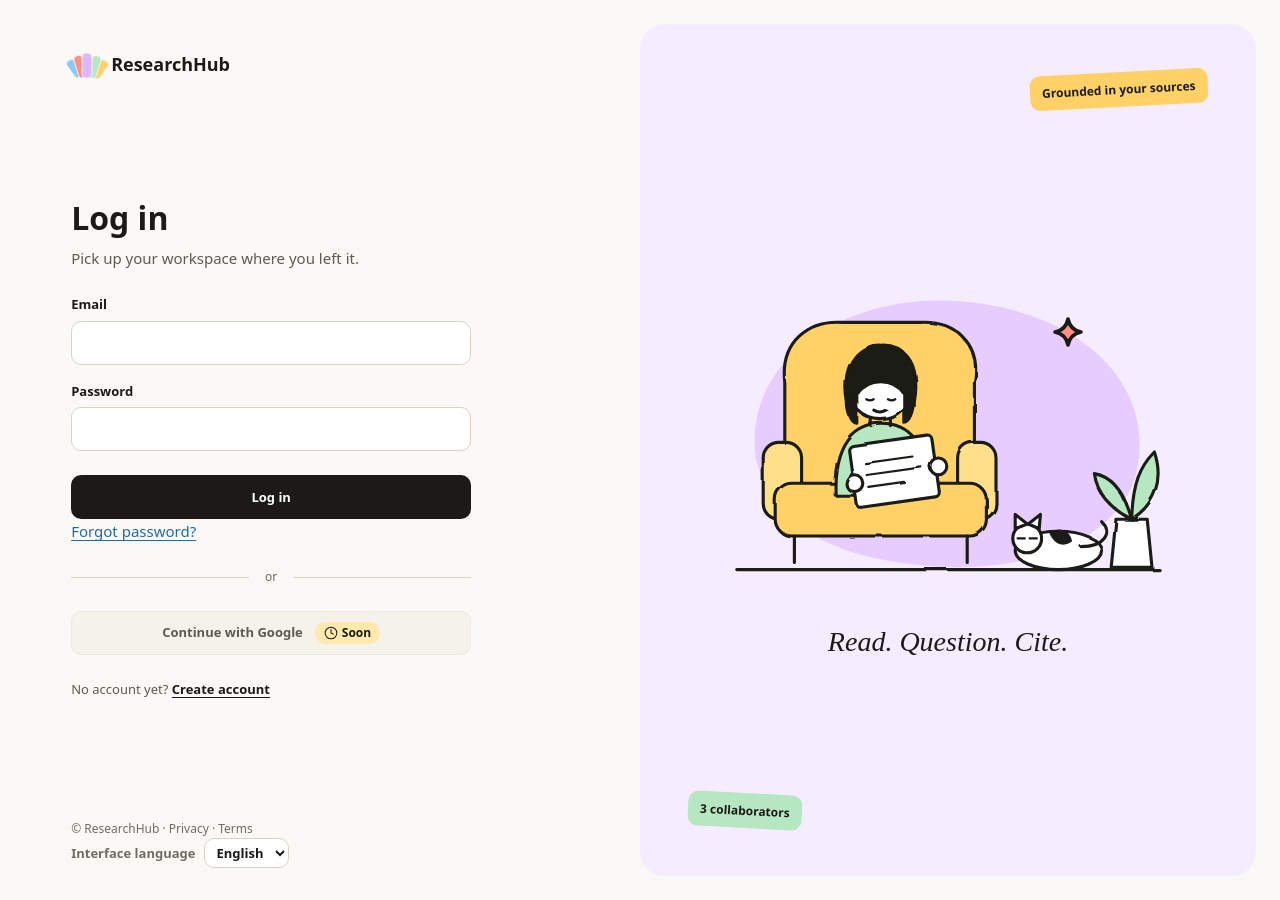
Test case: LoginPage › shows one generic message when the credentials are rejected
In the field labelled "Email": (271, 343) 71,321 -> 471,365, type "ada@example.com"
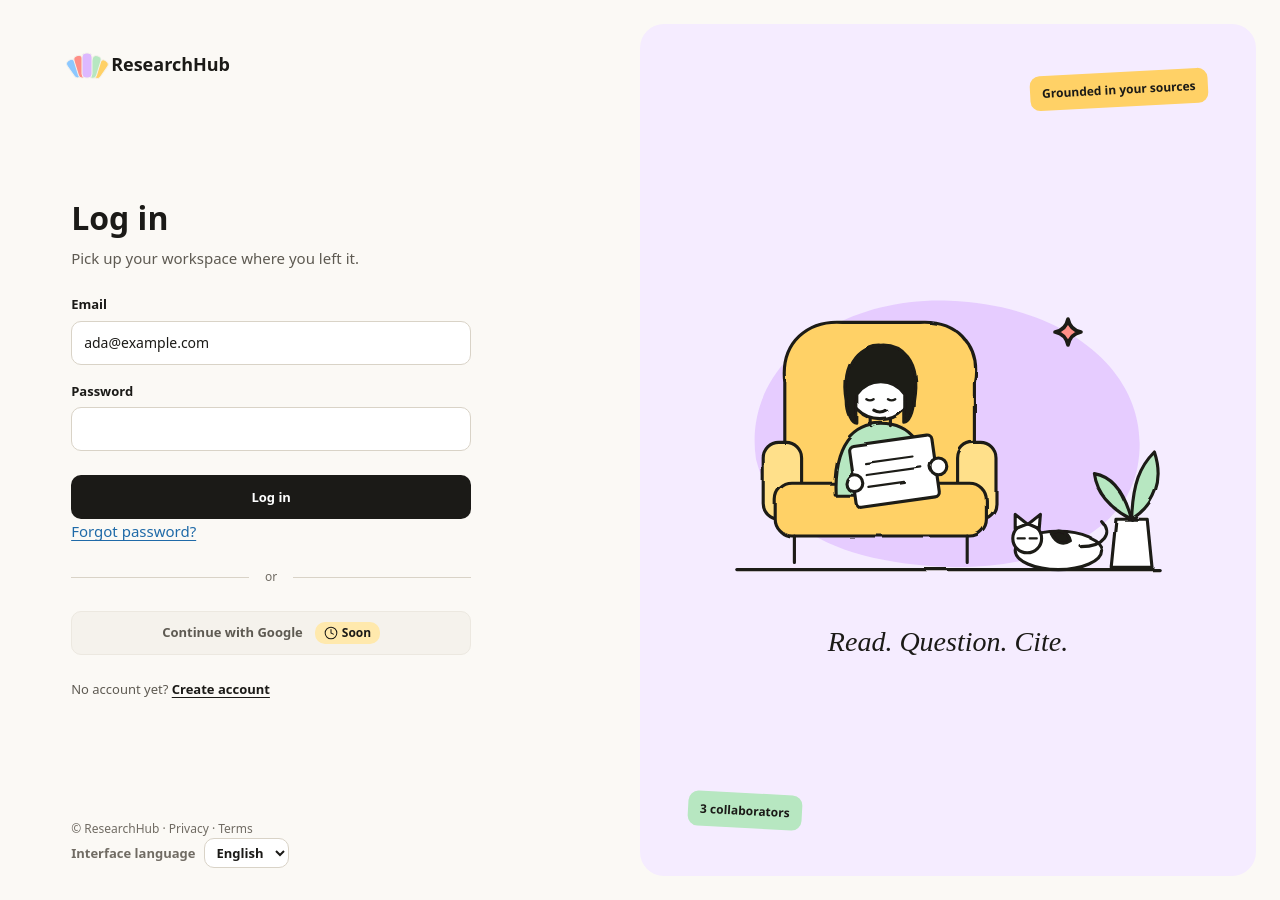
In the password field labelled "Password": (271, 429) 71,407 -> 471,451, type "a-long-enough-password"
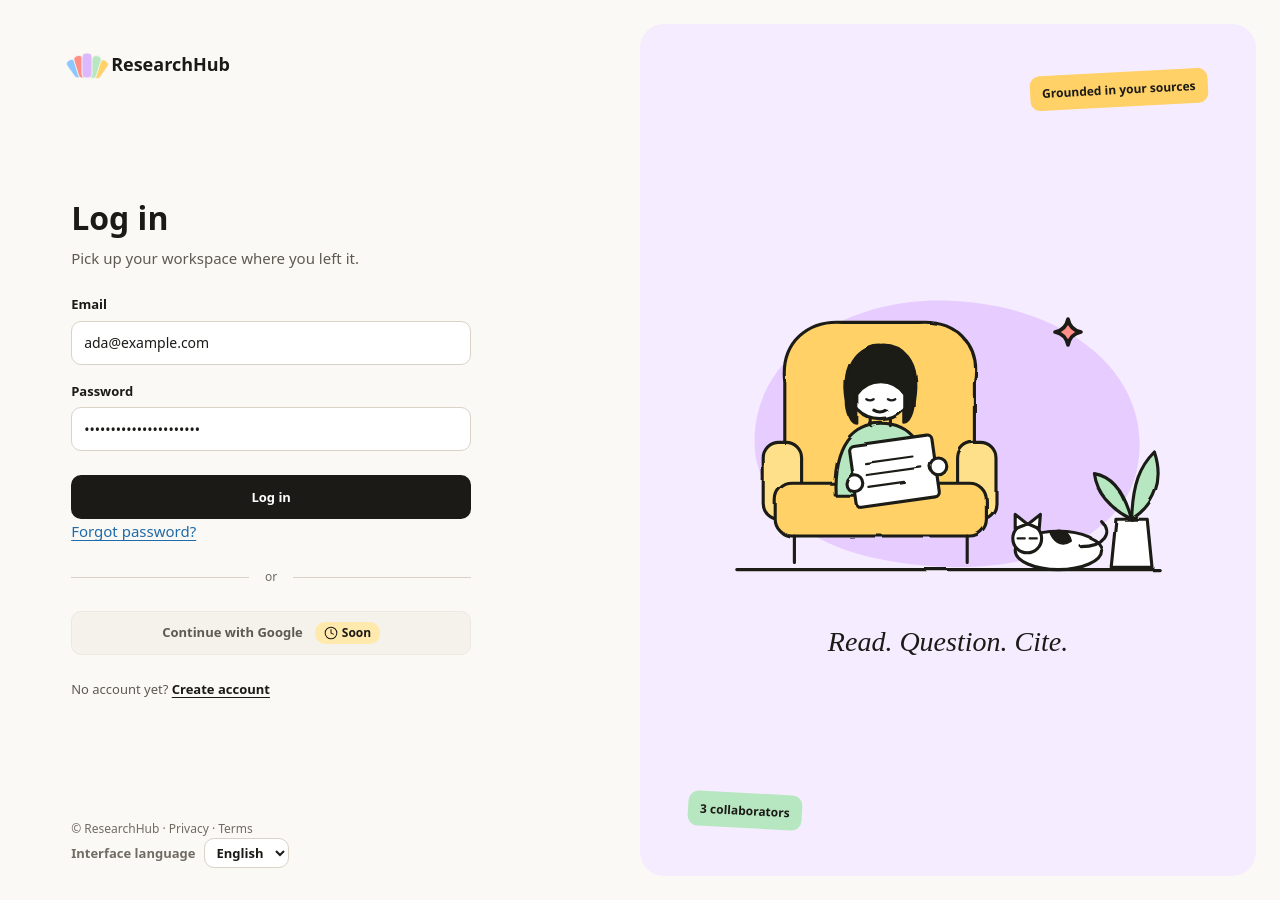
Click the button "Log in": (271, 497) 71,475 -> 471,519
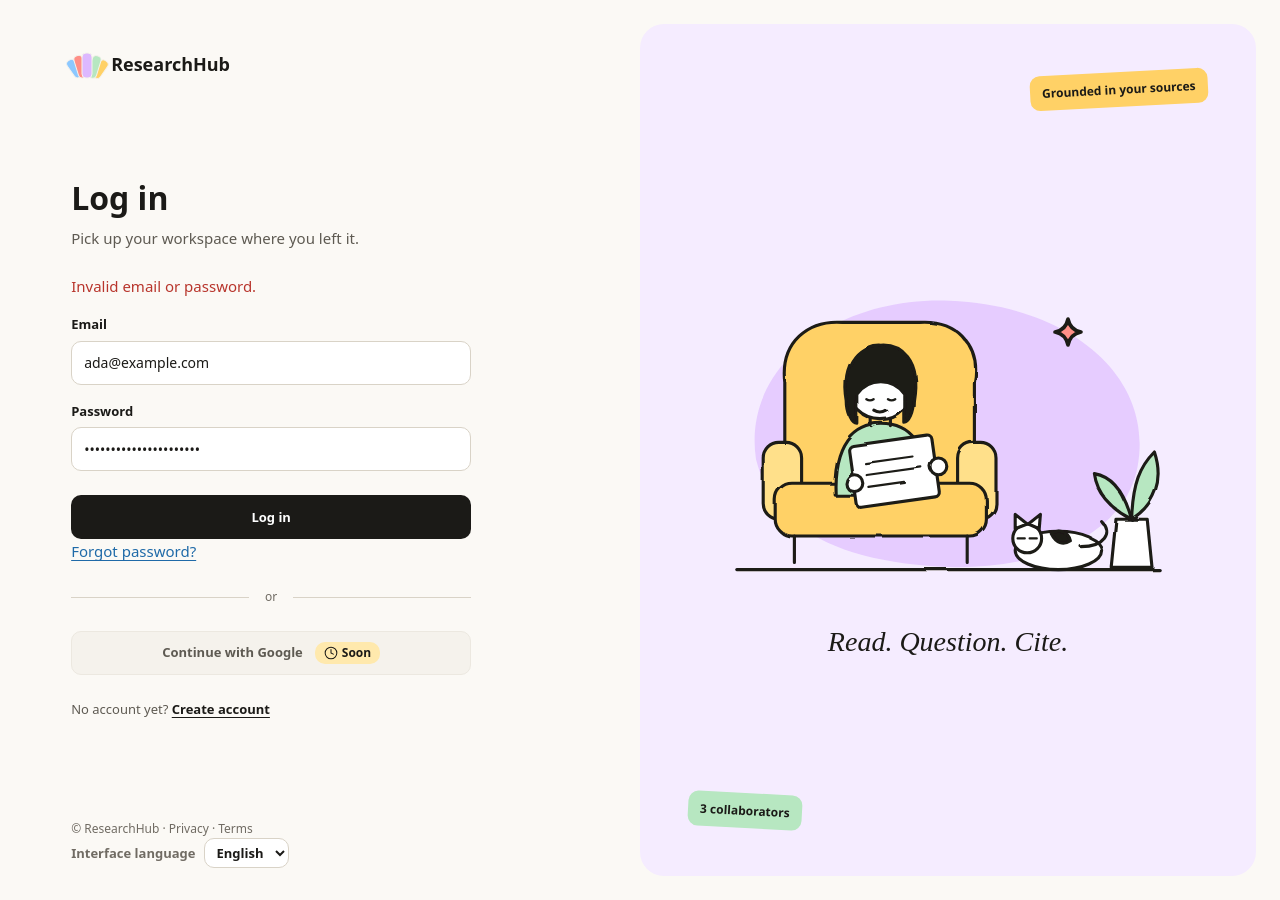
Expected: the message reads "Invalid email or password.", 71,276 -> 256,296
